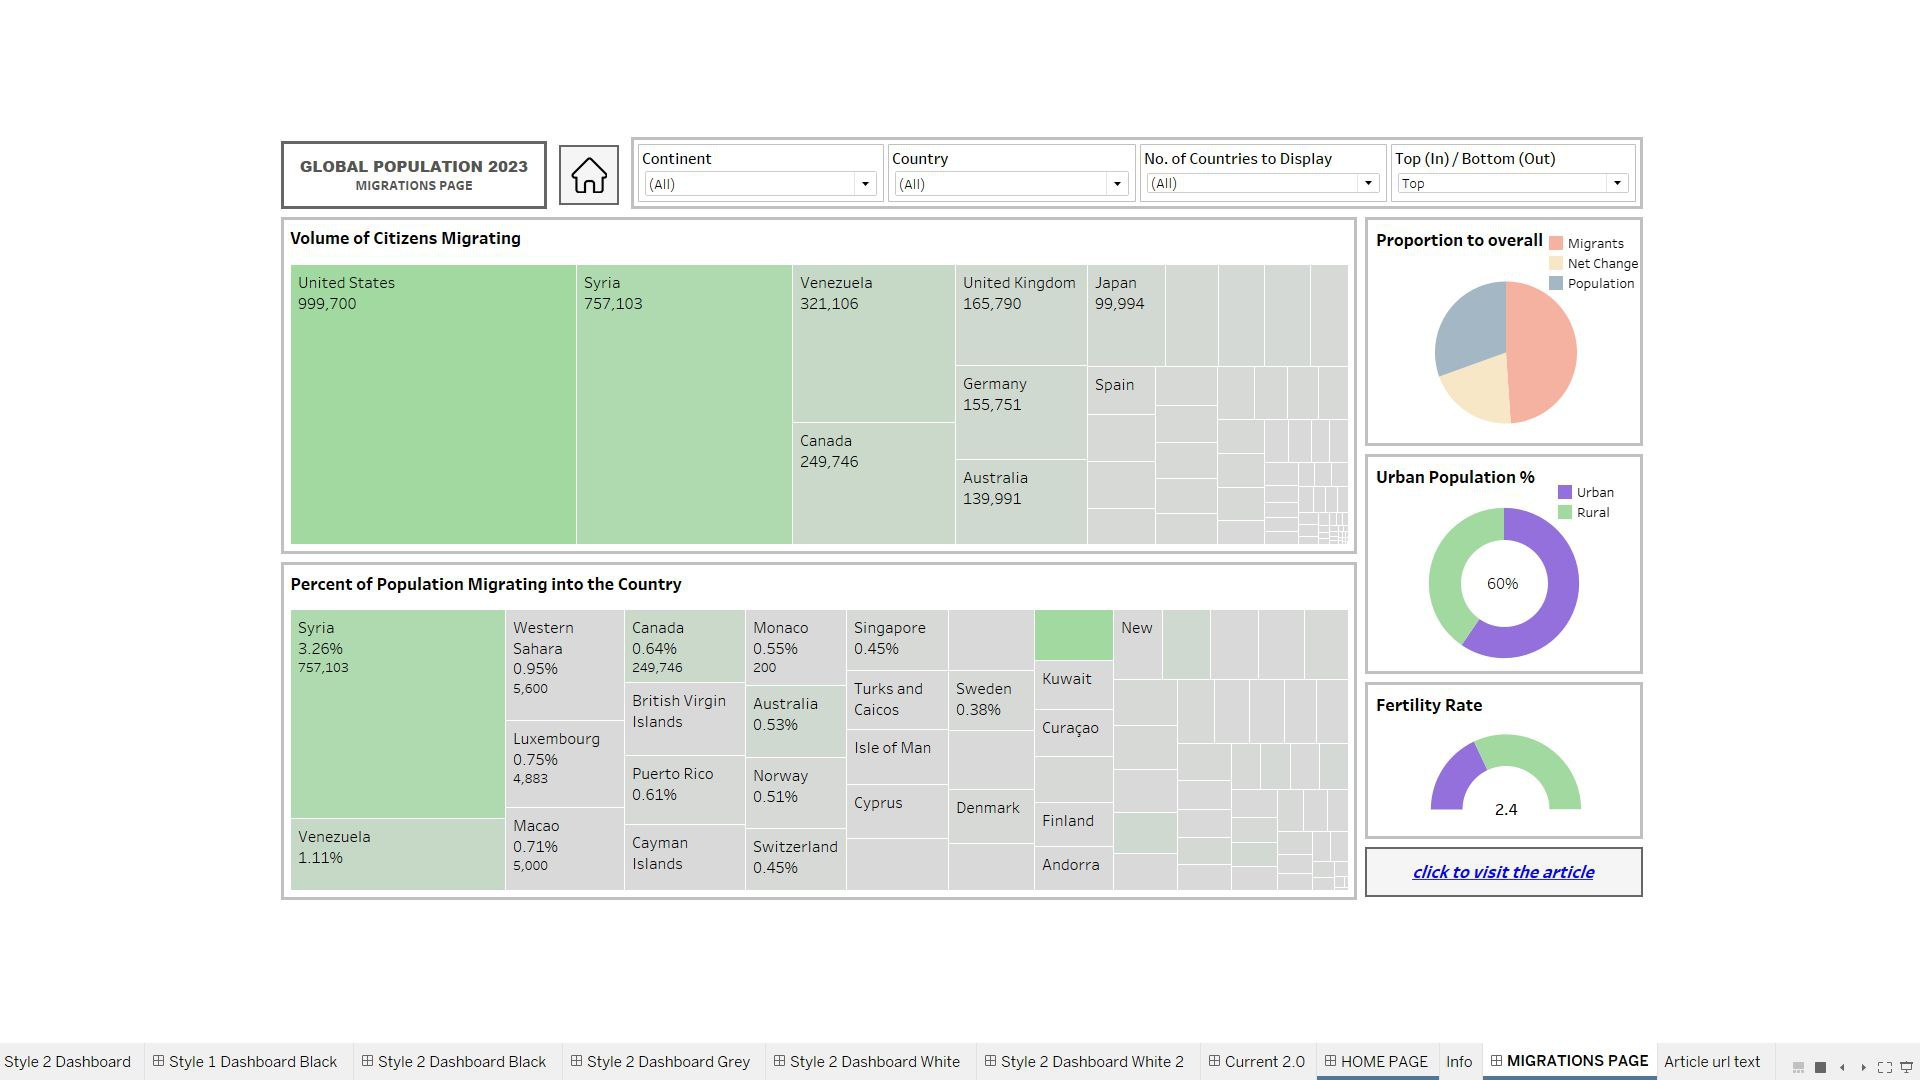

Layout of this report page (visuals, bound fields, positions):
{"tool":"tableau","page":{"name":"MIGRATIONS PAGE","canvas":[1366,768],"ordinal":6},"visuals":[{"type":"text","box":[0,0,274,76]},{"type":"dashboard-object","box":[274,0,76,76]},{"type":"filter","title":"Tree (Migrants)","param":"[federated.15nkbg51hgcz551290y810k430ke].[none:Calculation_705376329549299717:nk","box":[357,3,252,66]},{"type":"filter","title":"Tree (Migrants)","param":"[federated.15nkbg51hgcz551290y810k430ke].[none:Country (or dependency):nk]","box":[609,3,252,66]},{"type":"parameter","param":"[Parameters].[Parameter 2]","box":[861,3,251,66]},{"type":"parameter","param":"[Parameters].[Parameter 3]","box":[1112,3,251,66]},{"type":"worksheet","title":"Tree (Migrants)","mark":"Automatic","box":[0,76,1084,345]},{"type":"worksheet","title":"Pie Migrants Ratio","mark":"Pie","rows":["Calculation_702843069304557597"],"box":[1084,76,282,237]},{"type":"worksheet","title":"Donut Urban Population (3)","mark":"Automatic","rows":["Calculation_606578614915907605","Calculation_606578614915907605"],"box":[1084,313,282,228]},{"type":"worksheet","title":"Tree (Migrants Ratio)","mark":"Automatic","box":[0,421,1084,346]},{"type":"text","box":[10,434,422,24]},{"type":"text","box":[10,434,422,24]},{"type":"worksheet","title":"GAUGE FERT RATE","mark":"Pie","rows":["Calculation_1253971071881117699","Calculation_1253971071881138181"],"box":[1084,541,282,227]},{"type":"blank","box":[1084,691,282,15]},{"type":"blank","box":[1091,694,272,4]},{"type":"blank","box":[1086,702,280,8]},{"type":"worksheet","title":"Article url text","mark":"Automatic","box":[1084,706,282,58]}]}

Visuals, with their boxes on the page's 1366x768 design canvas (x1, y1, x2, y2). These are canvas units, not pixel positions in the 1920x1080 screenshot, which may show the page scaled, cropped or inside an application window:
text: locate(0, 0, 274, 76)
dashboard-object: locate(274, 0, 350, 76)
"Tree (Migrants)" filter: locate(357, 3, 609, 69)
"Tree (Migrants)" filter: locate(609, 3, 861, 69)
parameter: locate(861, 3, 1112, 69)
parameter: locate(1112, 3, 1363, 69)
"Tree (Migrants)" worksheet: locate(0, 76, 1084, 421)
"Pie Migrants Ratio" worksheet (Pie marks): locate(1084, 76, 1366, 313)
"Donut Urban Population (3)" worksheet: locate(1084, 313, 1366, 541)
"Tree (Migrants Ratio)" worksheet: locate(0, 421, 1084, 767)
text: locate(10, 434, 432, 458)
text: locate(10, 434, 432, 458)
"GAUGE FERT RATE" worksheet (Pie marks): locate(1084, 541, 1366, 768)
blank: locate(1084, 691, 1366, 706)
blank: locate(1091, 694, 1363, 698)
blank: locate(1086, 702, 1366, 710)
"Article url text" worksheet: locate(1084, 706, 1366, 764)
